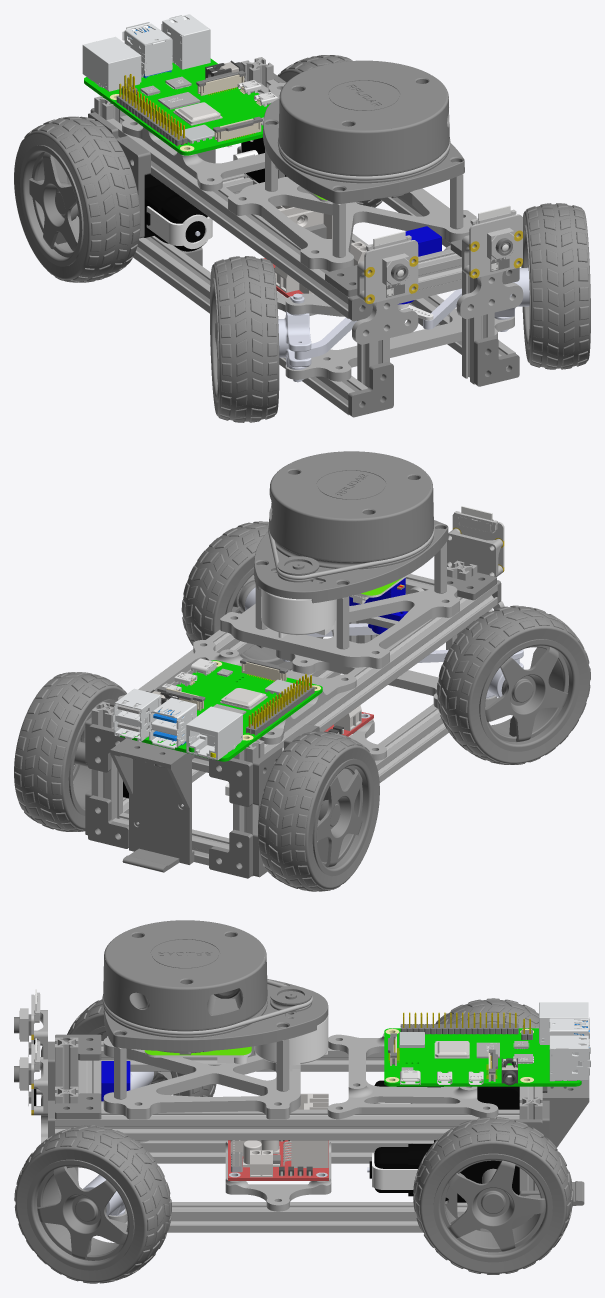
The model's file is r4e-mlcar-000-rpi.glb.
3 renders of one model, top to bottom at view 1: azimuth 30°, elevation 25°; view 2: azimuth 150°, elevation 25°; view 3: azimuth 270°, elevation 25°, orthographic. The views are drawn at different scales.
Parts seen in each view (by area): view 1: R4E-MLCar-0003 Wheel D65x25-1 (×4), R4E-MLCar-0301 Rplidar A1M8-1, R4E-MLCar-0303 Lidar Mount-1, R4E-MLCar-0401 RPi Camera Module 3-1 (×2), R4E-MLCar-0001 Aluminum Extrusion (10mmx10mm)-2, PCB, RPi4ModelB-1, R4E-MLCar-0402 Camera Mount-1 (×2), R4E-MLCar-0001 Aluminum Extrusion (10mmx10mm)-7, R4E-MLCar-0201 Motor Gear Box-1 (×2), R4E-MLCar-0108 Lower Control Arm-1, R4E-MLCar-0007 Arduino Mount-1, Gigabit Ethernet Port, RPi4ModelB-1 (+24 smaller); view 2: R4E-MLCar-0003 Wheel D65x25-1 (×4), R4E-MLCar-0301 Rplidar A1M8-1, R4E-MLCar-0006 9V Battery Holder-1, R4E-MLCar-0303 Lidar Mount-1, R4E-MLCar-0001 Aluminum Extrusion (10mmx10mm)-2, PCB, RPi4ModelB-1, R4E-MLCar-0007 Arduino Mount-1, R4E-MLCar-0001 Aluminum Extrusion (10mmx10mm)-7, Gigabit Ethernet Port, RPi4ModelB-1, R4E-MLCar-0402 Camera Mount-1, 2X USB2.0 PORTS, RPi4ModelB-1, 2X USB3.0 PORTS, RPi4ModelB-2 (+20 smaller); view 3: R4E-MLCar-0003 Wheel D65x25-1 (×4), R4E-MLCar-0301 Rplidar A1M8-1, R4E-MLCar-0001 Aluminum Extrusion (10mmx10mm)-4, R4E-MLCar-0303 Lidar Mount-1, R4E-MLCar-0001 Aluminum Extrusion (10mmx10mm)-6, PCB, RPi4ModelB-1, R4E-MLCar-0007 Arduino Mount-1, R4E-MLCar-0005 L298N Motor Driver-1, R4E-MLCar-0201 Motor Gear Box-1 (×2), R4E-MLCar-0001 Aluminum Extrusion (10mmx10mm)-7, R4E-MLCar-0006 9V Battery Holder-1, R4E-MLCar-0008 L298N Motor Driver Mount-1 (+17 smaller).
Part boxes in pixels (x1,y1,x2,y2): R4E-MLCar-0003 Wheel D65x25-1 (×4): (14,55,590,422); R4E-MLCar-0301 Rplidar A1M8-1: (263,60,464,203); R4E-MLCar-0303 Lidar Mount-1: (228,176,476,271); R4E-MLCar-0401 RPi Camera Module 3-1 (×2): (364,205,522,303); R4E-MLCar-0001 Aluminum Extrusion (10mmx10mm)-2: (106,115,361,318); PCB, RPi4ModelB-1: (84,58,270,155); R4E-MLCar-0402 Camera Mount-1 (×2): (352,233,523,344); R4E-MLCar-0001 Aluminum Extrusion (10mmx10mm)-7: (133,236,367,415); R4E-MLCar-0201 Motor Gear Box-1 (×2): (144,137,286,251); R4E-MLCar-0108 Lower Control Arm-1: (285,309,514,381); R4E-MLCar-0007 Arduino Mount-1: (122,82,285,191); Gigabit Ethernet Port, RPi4ModelB-1: (82,36,141,91); R4E-MLCar-0003 Wheel D65x25-1 (×4): (14,521,590,891); R4E-MLCar-0301 Rplidar A1M8-1: (254,451,448,637); R4E-MLCar-0006 9V Battery Holder-1: (110,738,194,872); R4E-MLCar-0303 Lidar Mount-1: (220,584,459,668); R4E-MLCar-0001 Aluminum Extrusion (10mmx10mm)-2: (255,583,497,753); PCB, RPi4ModelB-1: (120,660,322,761); R4E-MLCar-0007 Arduino Mount-1: (118,640,356,744); R4E-MLCar-0001 Aluminum Extrusion (10mmx10mm)-7: (375,704,448,782); Gigabit Ethernet Port, RPi4ModelB-1: (186,706,242,760); R4E-MLCar-0402 Camera Mount-1: (447,528,504,612); 2X USB2.0 PORTS, RPi4ModelB-1: (111,688,161,741); 2X USB3.0 PORTS, RPi4ModelB-2: (149,697,196,749); R4E-MLCar-0003 Wheel D65x25-1 (×4): (14,998,573,1283); R4E-MLCar-0301 Rplidar A1M8-1: (102,920,328,1071); R4E-MLCar-0001 Aluminum Extrusion (10mmx10mm)-4: (55,1109,519,1140); R4E-MLCar-0303 Lidar Mount-1: (103,1037,300,1119); R4E-MLCar-0001 Aluminum Extrusion (10mmx10mm)-6: (125,1202,490,1232); PCB, RPi4ModelB-1: (384,1028,581,1086); R4E-MLCar-0007 Arduino Mount-1: (327,1033,498,1119); R4E-MLCar-0005 L298N Motor Driver-1: (228,1093,328,1180); R4E-MLCar-0201 Motor Gear Box-1 (×2): (367,1080,519,1202); R4E-MLCar-0001 Aluminum Extrusion (10mmx10mm)-7: (139,1140,433,1163); R4E-MLCar-0006 9V Battery Holder-1: (542,1075,589,1205); R4E-MLCar-0008 L298N Motor Driver Mount-1: (225,1140,331,1211).
Size of the model in its own units: 0.187 by 0.1215 by 0.2484.
